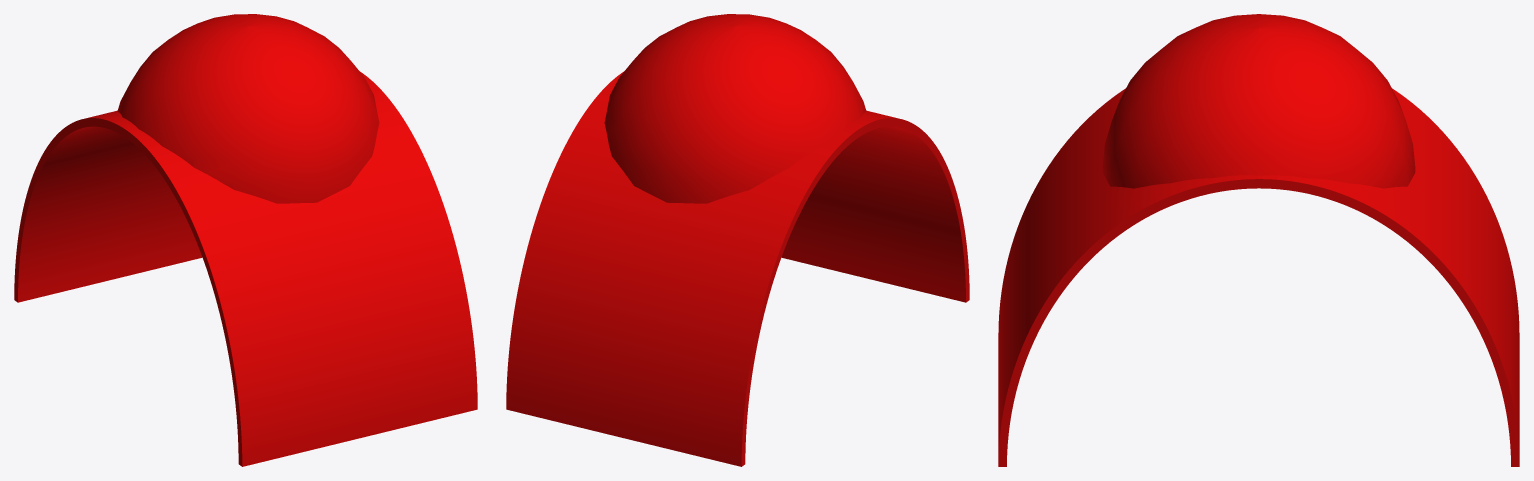
File: Dome_Low_UV.fbx
3 renders of one model, left to right at view 1: azimuth 30°, elevation 25°; view 2: azimuth 150°, elevation 25°; view 3: azimuth 270°, elevation 25°, orthographic. The views are drawn at different scales.
Parts seen in each view (by area): view 1: polySurface3, polySurface2; view 2: polySurface3, polySurface2; view 3: polySurface2, polySurface3.
Part boxes in pixels (box(x1,y1,x2,y2)): polySurface3: box(14, 71, 477, 466); polySurface2: box(117, 14, 379, 203); polySurface3: box(506, 71, 969, 466); polySurface2: box(604, 14, 866, 203); polySurface2: box(1102, 14, 1415, 188); polySurface3: box(998, 88, 1519, 466).
Bounding box in the file's own units: 29.74 × 39.58 × 49.92.
